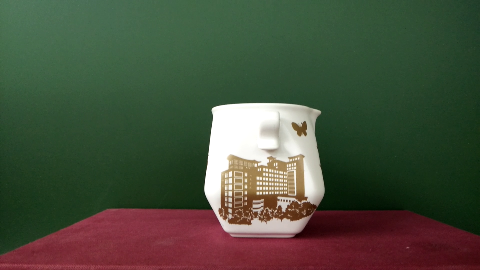butterfly: (282, 107, 315, 139)
lenwen: (227, 166, 304, 216)
